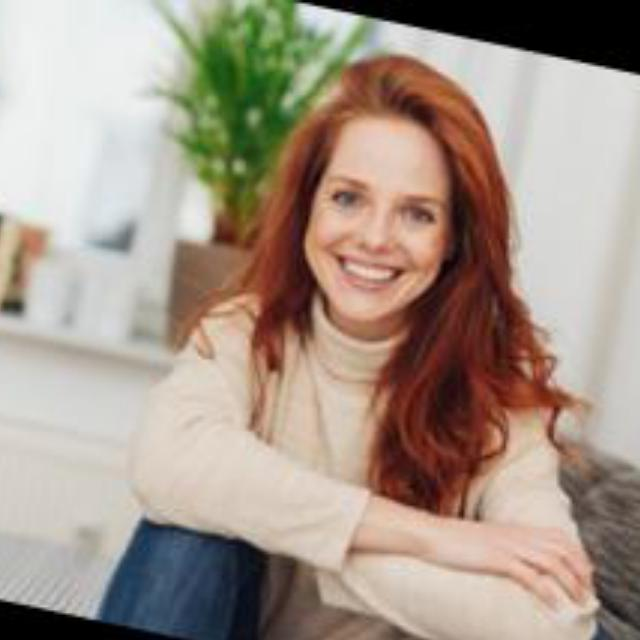Happy: (284, 91, 479, 346)
